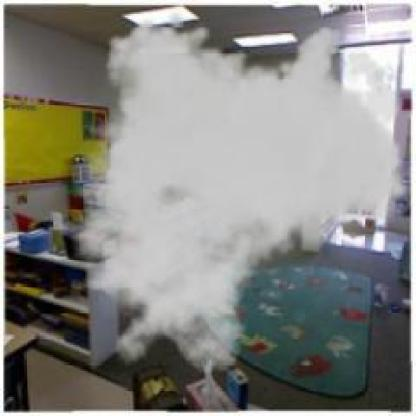Smoke: (42, 10, 410, 375)
